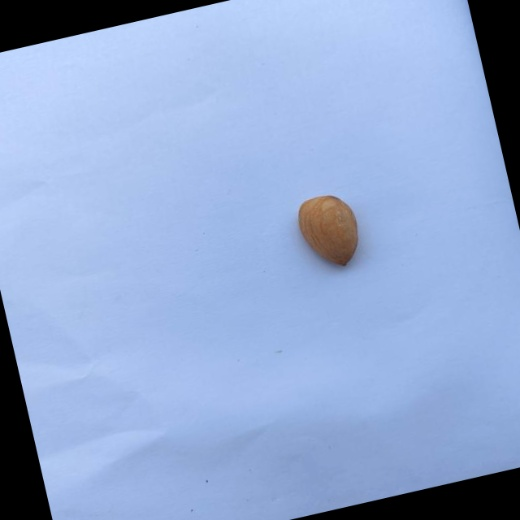grade2: (288, 187, 369, 277)
